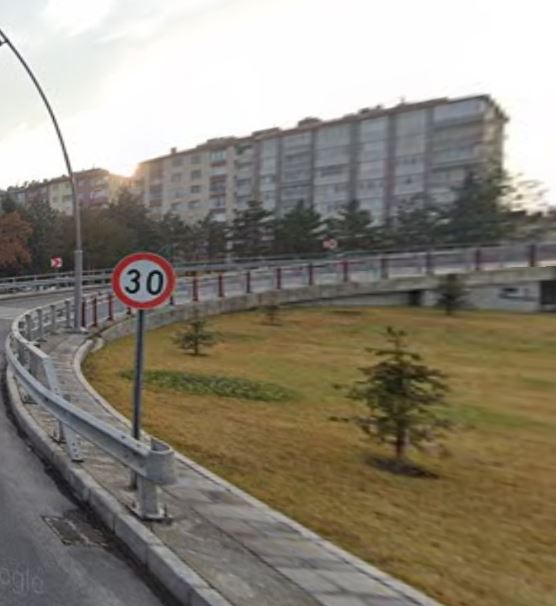30 Km Hiz Siniri: (110, 251, 179, 305)
